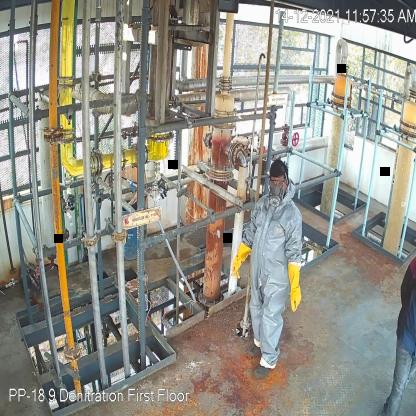goggles: (268, 177, 284, 188)
mask: (270, 187, 285, 208)
